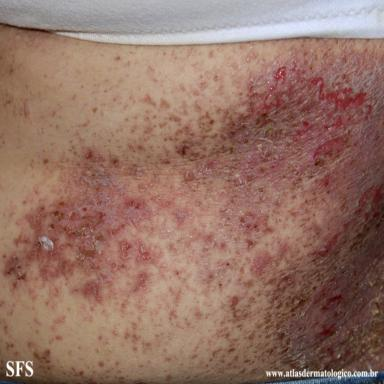Darier_s-Disease: (0, 40, 384, 384)
